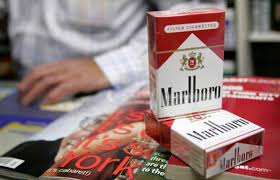marlboro: (156, 18, 221, 114)
